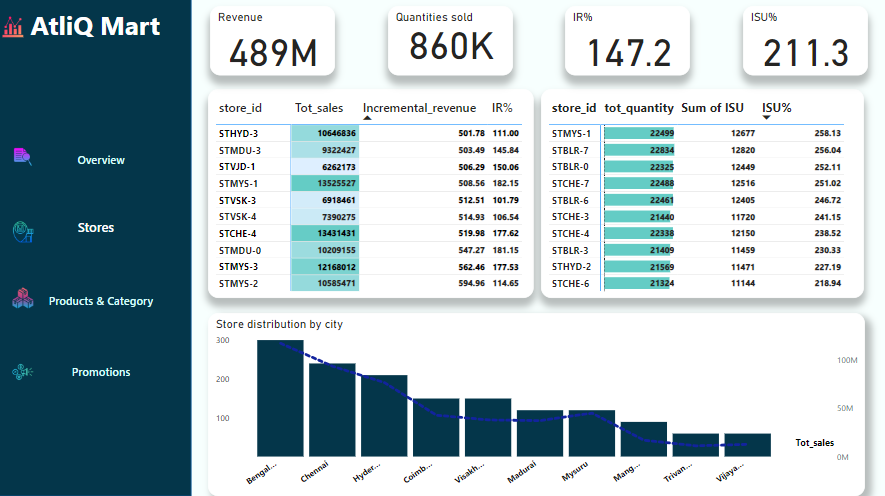

What the dashboard file says about the page in this screenshot:
{"tool":"powerbi","page":{"name":"Stores","canvas":[1280,720],"ordinal":1},"visuals":[{"type":"shape","box":[0,0,277.2,720.6],"z":0},{"type":"pageNavigator","box":[14.4,188.6,250.6,401.8],"z":1000},{"type":"pivotTable","fields":{"Rows":["fact_events.store_id"],"Values":["fact_events.Tot_sales","dim_campaigns.Incremental_revenue","dim_campaigns.IR%"]},"box":[300.7,134.4,468.7,300.7],"z":3000},{"type":"pivotTable","fields":{"Rows":["fact_events.store_id"],"Values":["dim_campaigns.tot_quantity","Sum(fact_events.ISU)","dim_campaigns.ISU%"]},"box":[781.1,134.4,465.3,300.7],"z":4000},{"type":"card","title":"Revenue","fields":{"Values":["fact_events.Tot_sales"]},"box":[304,15.1,180,100],"z":5000},{"type":"card","title":"IR%","fields":{"Values":["dim_campaigns.IR%"]},"box":[815.1,15.1,180,100],"z":6000},{"type":"card","title":"ISU%","fields":{"Values":["dim_campaigns.ISU%"]},"box":[1070.7,15.1,180,100],"z":7000},{"type":"card","title":"Quantities sold","fields":{"Values":["dim_campaigns.tot_quantity"]},"box":[559.6,15.1,180,100],"z":8000},{"type":"lineClusteredColumnComboChart","title":" Store distribution  by city","fields":{"Category":["dim_stores.city"],"Y":["CountNonNull(fact_events.store_id)"],"Y2":["fact_events.Tot_sales"]},"box":[300.7,456.9,945.7,263.7],"z":9000},{"type":"image","box":[14.4,521.3,40.3,40.3],"z":10000},{"type":"image","box":[14.4,414.7,40.3,40.3],"z":11000},{"type":"image","box":[14.4,319.7,40.3,40.3],"z":12000},{"type":"image","box":[14.4,211.7,40.3,40.3],"z":13000},{"type":"textbox","box":[0,11.8,277.2,84],"z":13001},{"type":"image","box":[34.6,24.5,40.3,40.3],"z":13002}]}

Visuals, with their boxes on the page's 1280x720 design canvas (x1, y1, x2, y2). These are canvas units, not pixel positions in the 885x496 screenshot, which may show the page scaled, cropped or inside an application window:
shape: left=0, top=0, right=277, bottom=721
pageNavigator: left=14, top=189, right=265, bottom=590
pivotTable - fact_events.store_id x fact_events.Tot_sales: left=301, top=134, right=769, bottom=435
pivotTable - fact_events.store_id x dim_campaigns.tot_quantity: left=781, top=134, right=1246, bottom=435
"Revenue" card: left=304, top=15, right=484, bottom=115
"IR%" card: left=815, top=15, right=995, bottom=115
"ISU%" card: left=1071, top=15, right=1251, bottom=115
"Quantities sold" card: left=560, top=15, right=740, bottom=115
" Store distribution  by city" lineClusteredColumnComboChart: left=301, top=457, right=1246, bottom=721
image: left=14, top=521, right=55, bottom=562
image: left=14, top=415, right=55, bottom=455
image: left=14, top=320, right=55, bottom=360
image: left=14, top=212, right=55, bottom=252
textbox: left=0, top=12, right=277, bottom=96
image: left=35, top=24, right=75, bottom=65
